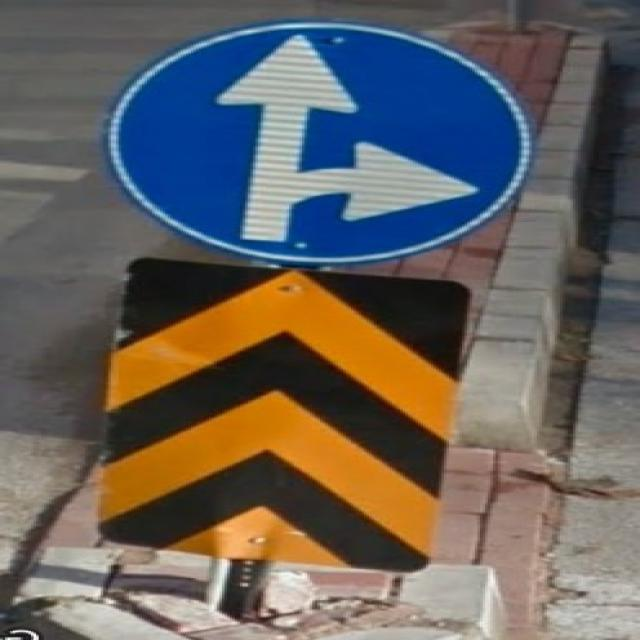Straight or Right: (94, 24, 543, 258)
